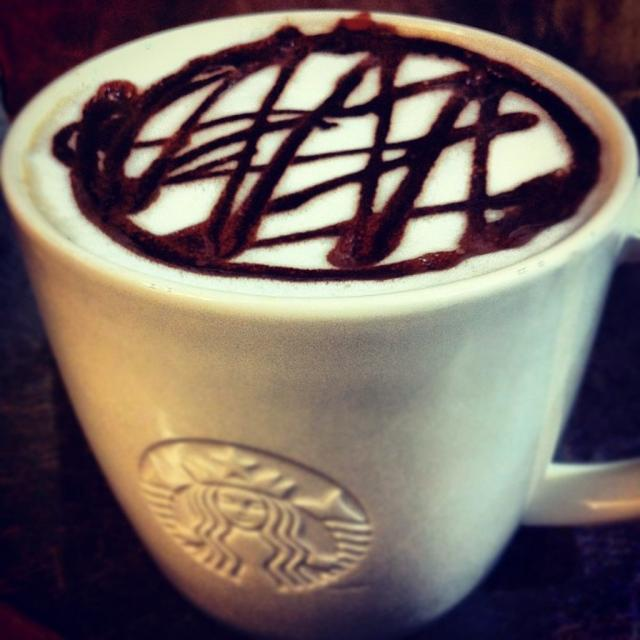Coffee: (13, 2, 639, 299)
